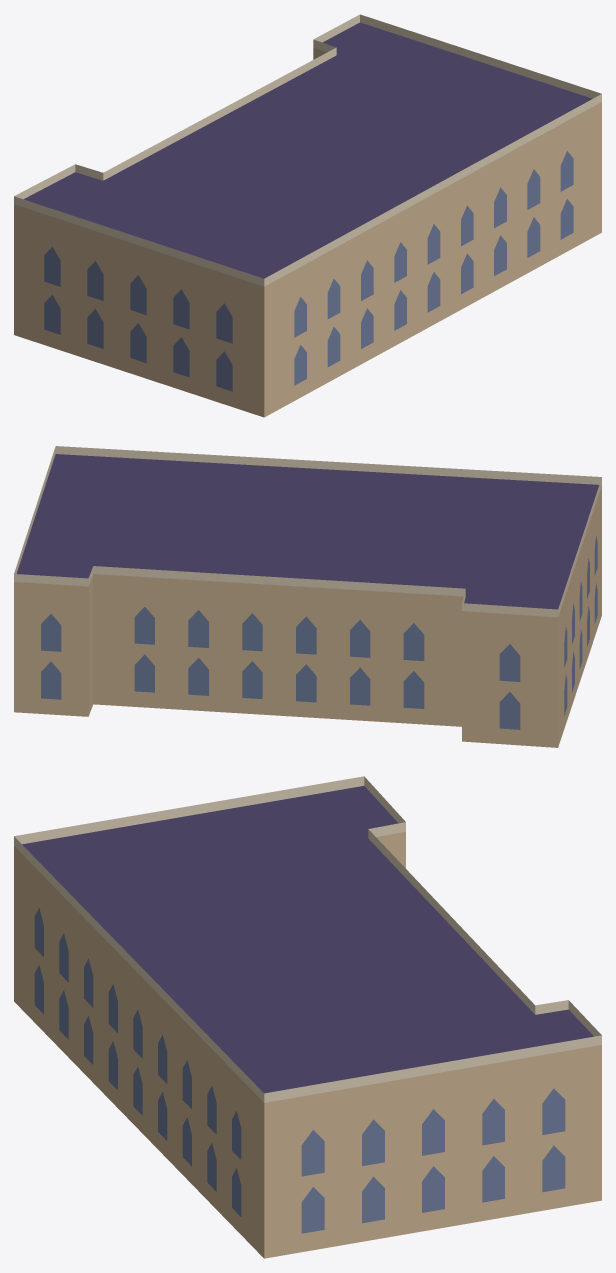
The model's file is b-009-hellmuth-hall-day.glb.
The picture shows the model from 3 angles, top to bottom: view 1: azimuth 30°, elevation 25°; view 2: azimuth 150°, elevation 25°; view 3: azimuth 270°, elevation 25°; orthographic projection. The views are drawn at different scales.
Parts seen in each view (by area): view 1: campus/b-009-hellmuth-hall-day-0; view 2: campus/b-009-hellmuth-hall-day-0; view 3: campus/b-009-hellmuth-hall-day-0.
Part boxes in pixels (left/top/right/bottom): campus/b-009-hellmuth-hall-day-0: left=14, top=14, right=601, bottom=417; campus/b-009-hellmuth-hall-day-0: left=14, top=446, right=601, bottom=747; campus/b-009-hellmuth-hall-day-0: left=14, top=776, right=601, bottom=1258.
Bounding box in the file's own units: 39.3 × 9.55 × 30.79.
